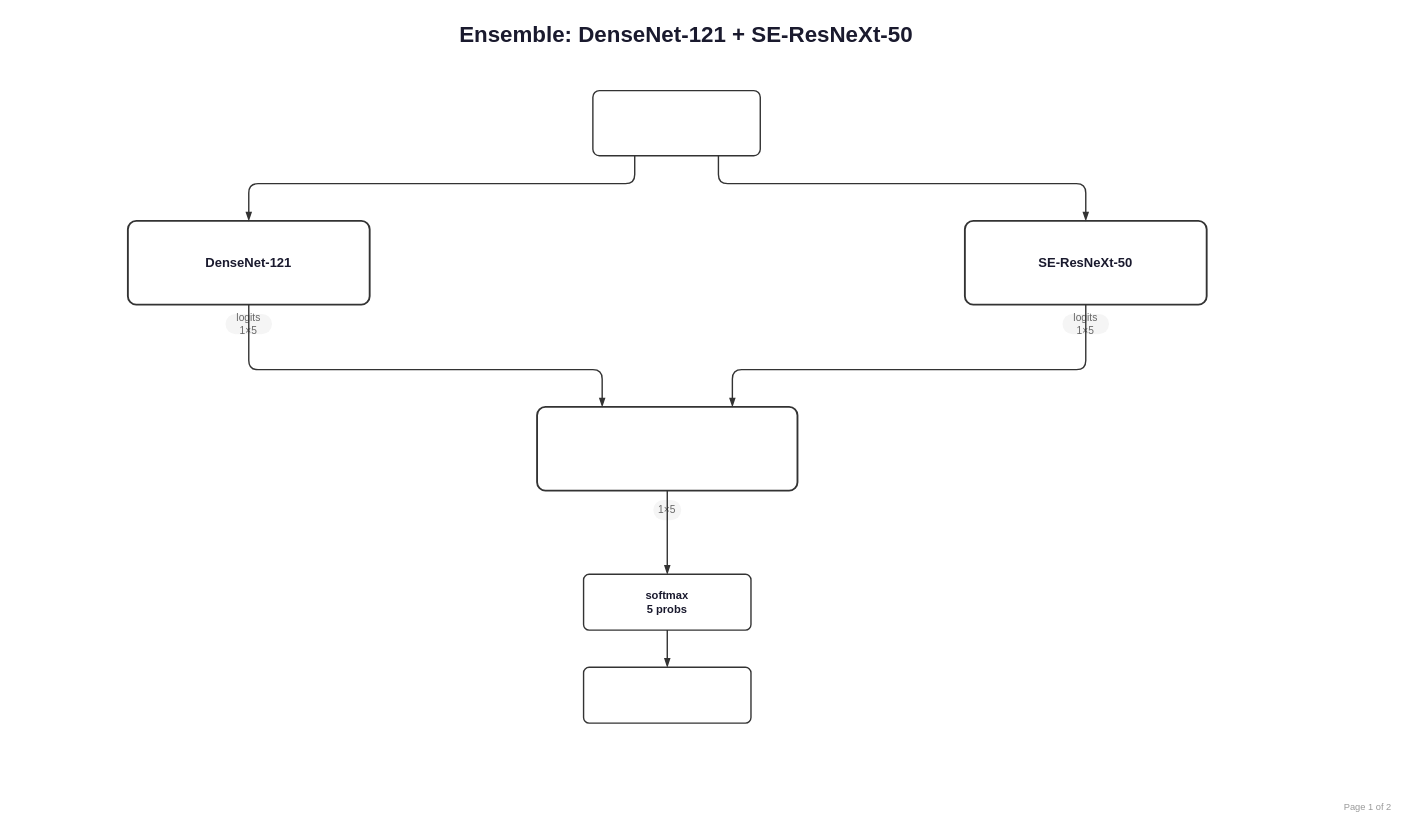
This 1408x831 diagram has some shape labels left out. The shapes that lost their labels are listed below. From the top down, each one's centre as x and y in pixels, then its label:
the point at 676,123: Image 384×384×3
the point at 667,448: logits avg (L1+L2)/2
the point at 666,694: argmax class id
